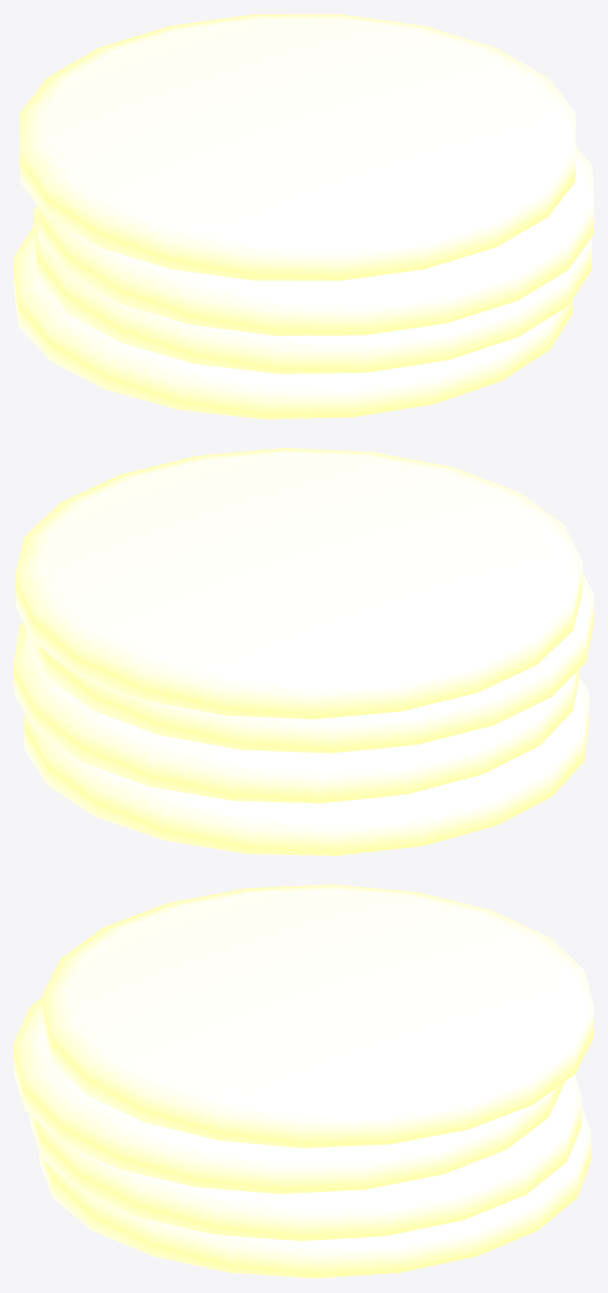
The model's file is STR_CoinStack.glb.
The picture shows the model from 3 angles, top to bottom: view 1: azimuth 30°, elevation 25°; view 2: azimuth 150°, elevation 25°; view 3: azimuth 270°, elevation 25°; orthographic projection. The views are drawn at different scales.
Parts seen in each view (by area): view 1: coin_3, coin_2, coin_0, coin_1; view 2: coin_3, coin_0, coin_1, coin_2; view 3: coin_3, coin_2, coin_1, coin_0.
Part boxes in pixels (x1,y1,x2,y2): coin_3: (20,14,575,280); coin_2: (37,146,593,335); coin_0: (14,226,573,419); coin_1: (34,205,591,373); coin_3: (15,448,582,719); coin_0: (24,677,588,855); coin_1: (14,622,579,803); coin_2: (27,573,593,753); coin_3: (42,884,593,1148); coin_2: (14,998,565,1193); coin_1: (30,1075,581,1241); coin_0: (39,1106,591,1278).
Bounding box in the file's own units: 0.721 × 0.246 × 0.7355.
